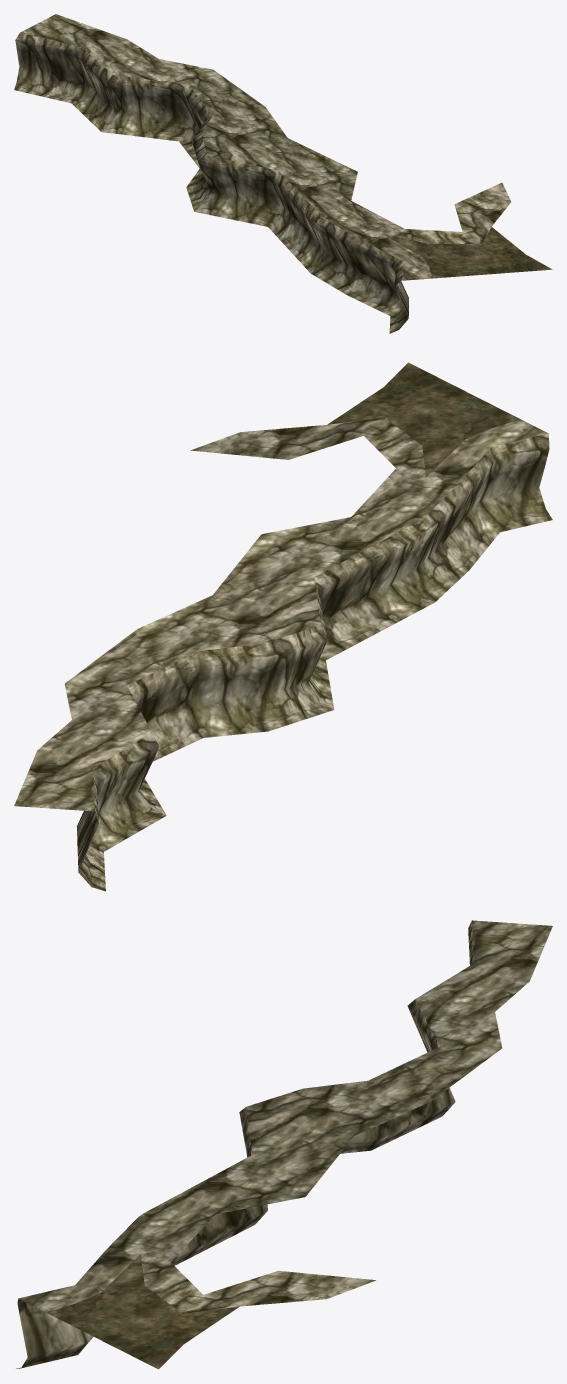
Rendered from CB_NEWPLAYSURFACE_CB_PLAYSURFACE95.fbx.
The picture shows the model from 3 angles, top to bottom: view 1: azimuth 30°, elevation 25°; view 2: azimuth 150°, elevation 25°; view 3: azimuth 330°, elevation 25°; orthographic projection. The views are drawn at different scales.
Visible parts, largest first — view 1: CB_NEWPLAYSURFACE_CB_PLAYSURFACE95; view 2: CB_NEWPLAYSURFACE_CB_PLAYSURFACE95; view 3: CB_NEWPLAYSURFACE_CB_PLAYSURFACE95.
Part boxes in pixels (x1=…): CB_NEWPLAYSURFACE_CB_PLAYSURFACE95: x1=14, y1=14, x2=552, y2=333; CB_NEWPLAYSURFACE_CB_PLAYSURFACE95: x1=14, y1=362, x2=552, y2=891; CB_NEWPLAYSURFACE_CB_PLAYSURFACE95: x1=16, y1=920, x2=552, y2=1369.
Size of the model in its own units: 144747 by 35647 by 450899.
3 materials, 3 textured.
